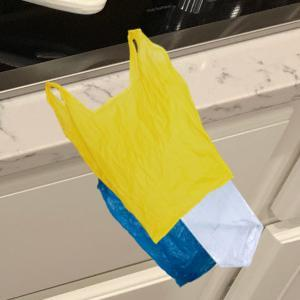plastic_bag: (42, 27, 235, 245)
